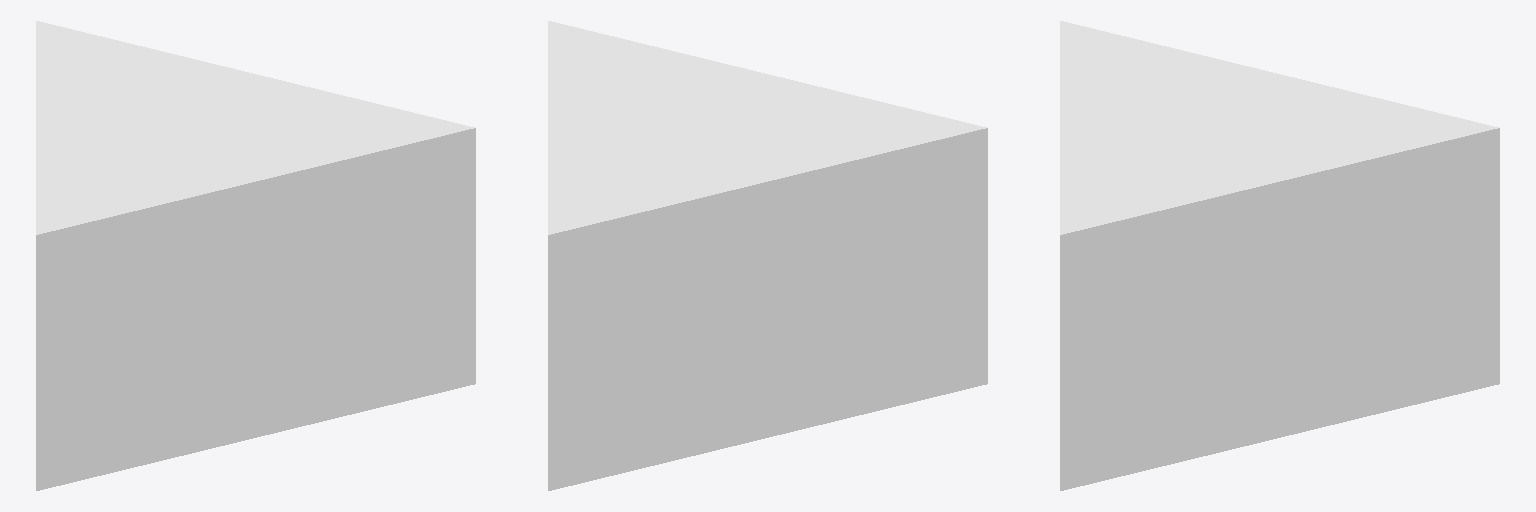
robot.urdf — triangle:
<?xml version="0.0" ?>
<robot name="triangle">
  <link name="base_link">    
  </link>
  <link name="triangleLink">
  <contact>
      <lateral_friction value="1"/>
  </contact>
    <inertial>
      <origin rpy="1.57079632679 0 0" xyz="0 0.0 0"/>
       <mass value="0.2"/>
       <inertia ixx="0" ixy="0" ixz="0" iyy="0" iyz="0" izz="0"/>
    </inertial>
    <visual>
      <origin rpy="1.57079632679 0 0" xyz="0 0 0"/>
      <geometry>
				<mesh filename="triangle.obj" scale="0.18 0.32 0.18"/>
      </geometry>
    <material name="white">
        <color rgba="1 1 1 1"/>
    </material>
    </visual>
    <collision>
      <origin rpy="1.57079632679 0 0" xyz="0 0 0"/>
      <geometry>
	 	<mesh filename="triangle.obj" scale="0.18 0.32 0.18"/>
      </geometry>
    </collision>
  </link>
   <joint name="base_triangle_joint" type="fixed">
    <origin rpy="0 0 0" xyz="0 0.0 0"/>
    <parent link="base_link"/>
    <child link="triangleLink"/>
  </joint>
</robot>

--- What the picture shows (computed from the rendered views, not written in the file) ---
The picture shows the robot from 3 angles, left to right: view 1: azimuth 30°, elevation 25°; view 2: azimuth 150°, elevation 25°; view 3: azimuth 270°, elevation 25°; orthographic projection.
Robot: triangle — 2 links, 1 joints (1 fixed); root link base_link; default pose: all joints at 0.
Links seen in each view (by area): view 1: triangleLink; view 2: triangleLink; view 3: triangleLink.
Link boxes in pixels (x1=…): triangleLink: x1=36, y1=21, x2=475, y2=490; triangleLink: x1=548, y1=21, x2=987, y2=490; triangleLink: x1=1060, y1=21, x2=1499, y2=490.
Size in the robot's own frame: 0.3118 by 0.27 by 0.1734 metres.
1 mesh visuals loaded from 1 distinct referenced files (1 OBJ).
